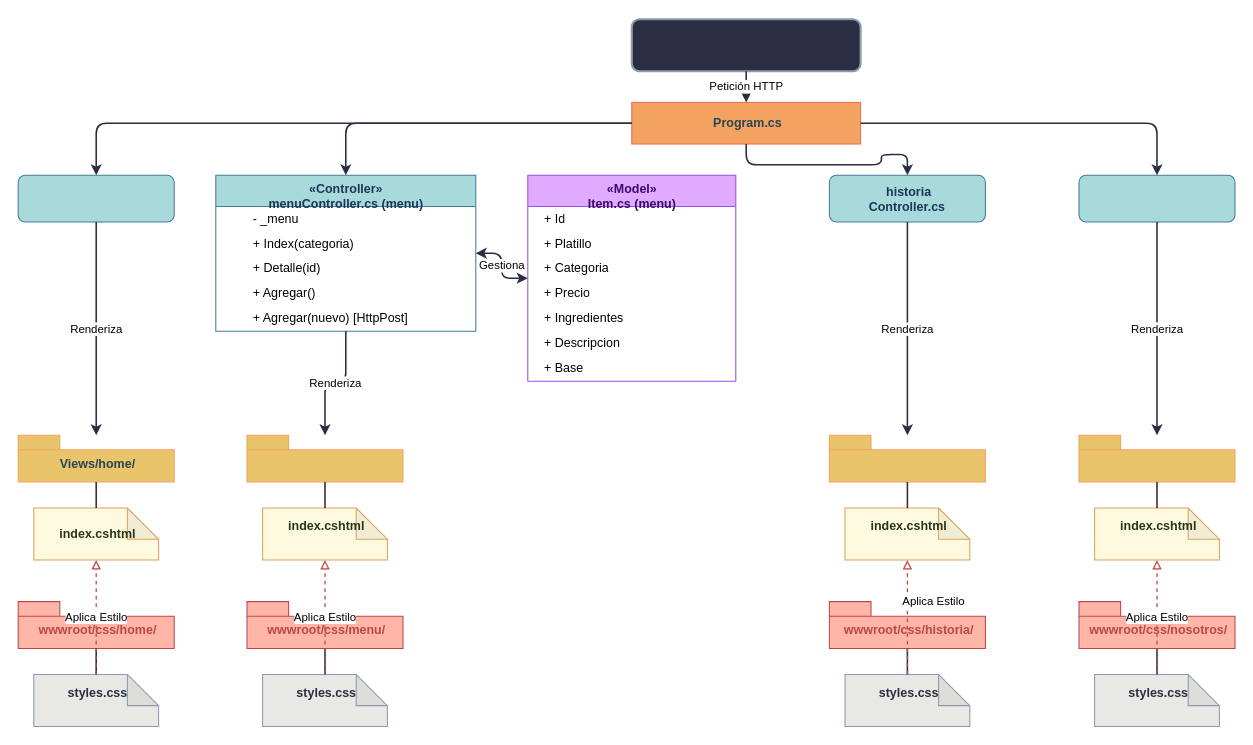
The diagram is 1253 pixels wide and 745 high, and some of its shapes have lost their labels. Here are the shapes that lost their labels. From the top down, the centre of each, then its label:
At pixel 745 45: "Administrador o usuario final".
At pixel 95 198: "home Controller.cs".
At pixel 1156 198: "nosotros Controller.cs".
At pixel 324 458: "Views/menu/".
At pixel 906 458: "Views/historia/".
At pixel 1156 458: "Views/nosotros/".
